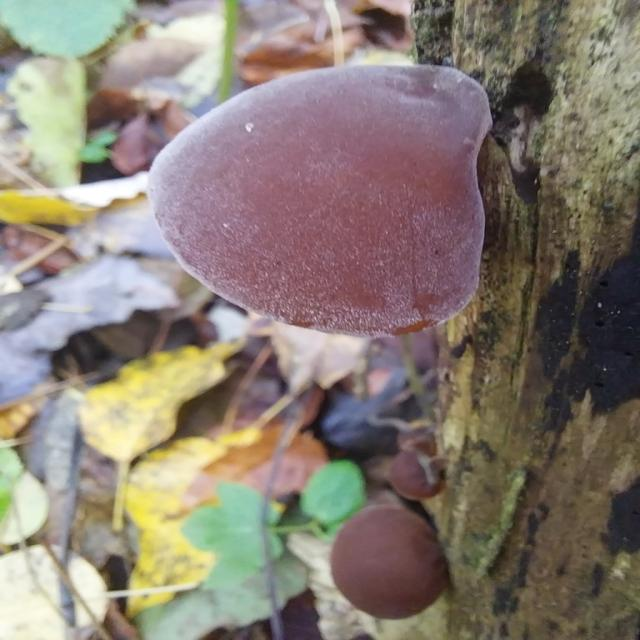Matang: (132, 55, 504, 346), (329, 498, 450, 625)
